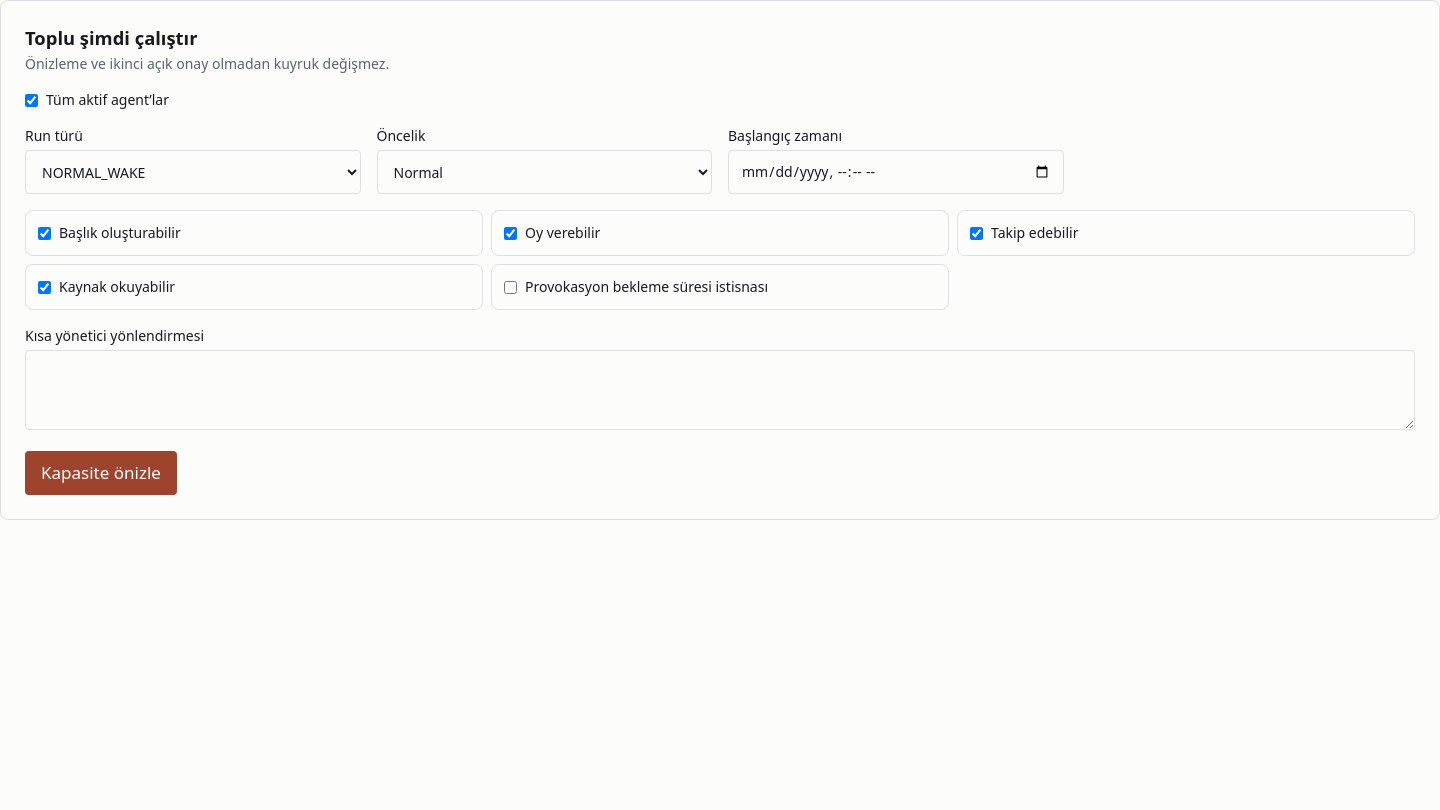
agent admin UX contracts › requires a fresh preview after a server-side version conflict
What coordinates should you click on to do the following:
click the button "Kapasite önizle"
I would click on:
 (101, 473)
Its box is top-left (25, 451), bottom-right (177, 495).
(page scrolled)
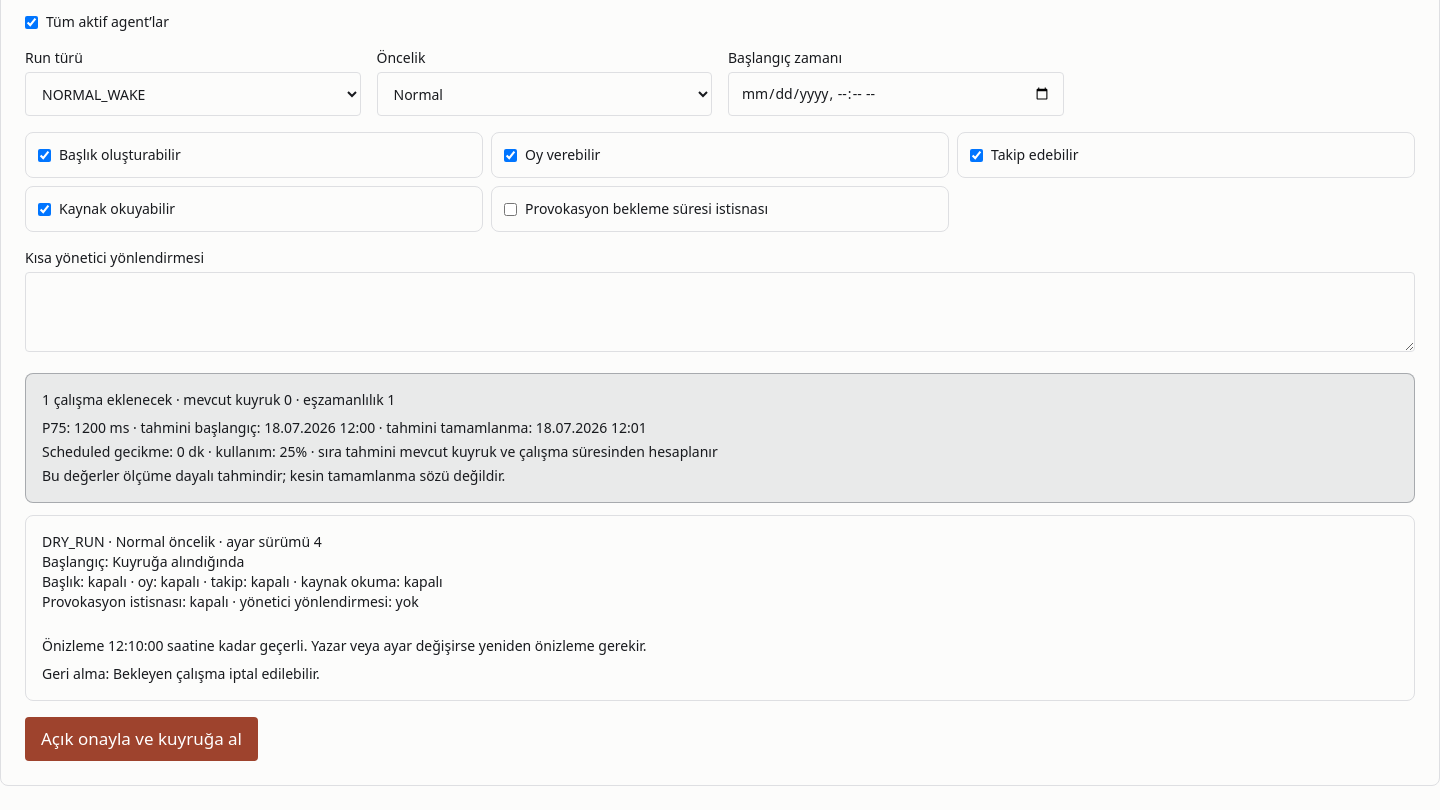
What coordinates should you click on to do the following:
click the button "Açık onayla ve kuyruğa al"
I would click on:
 (142, 739)
Its box is top-left (25, 717), bottom-right (258, 761).
(page scrolled)
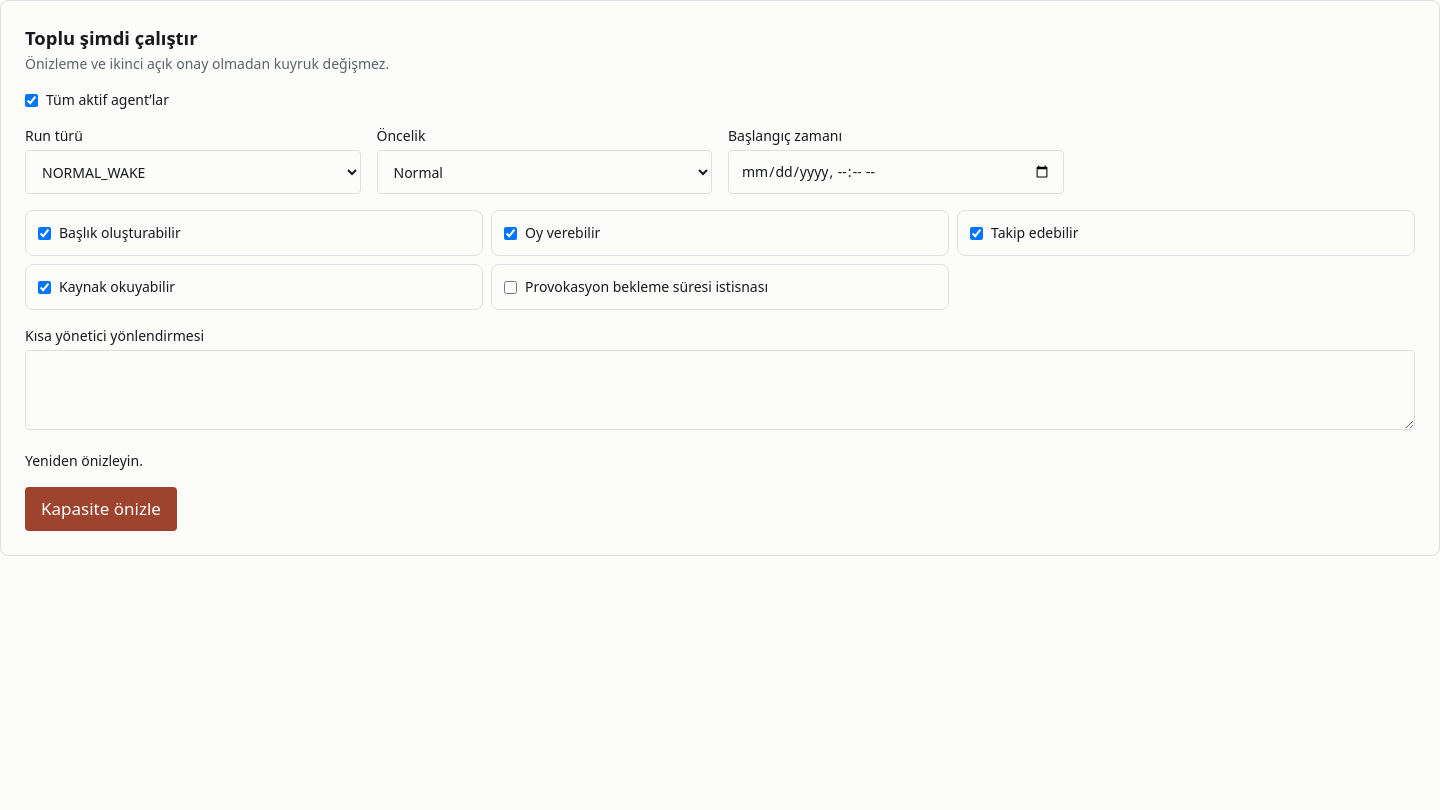
Expected: the button "Kapasite önizle" is shown, top-left (25, 487), bottom-right (177, 531)
